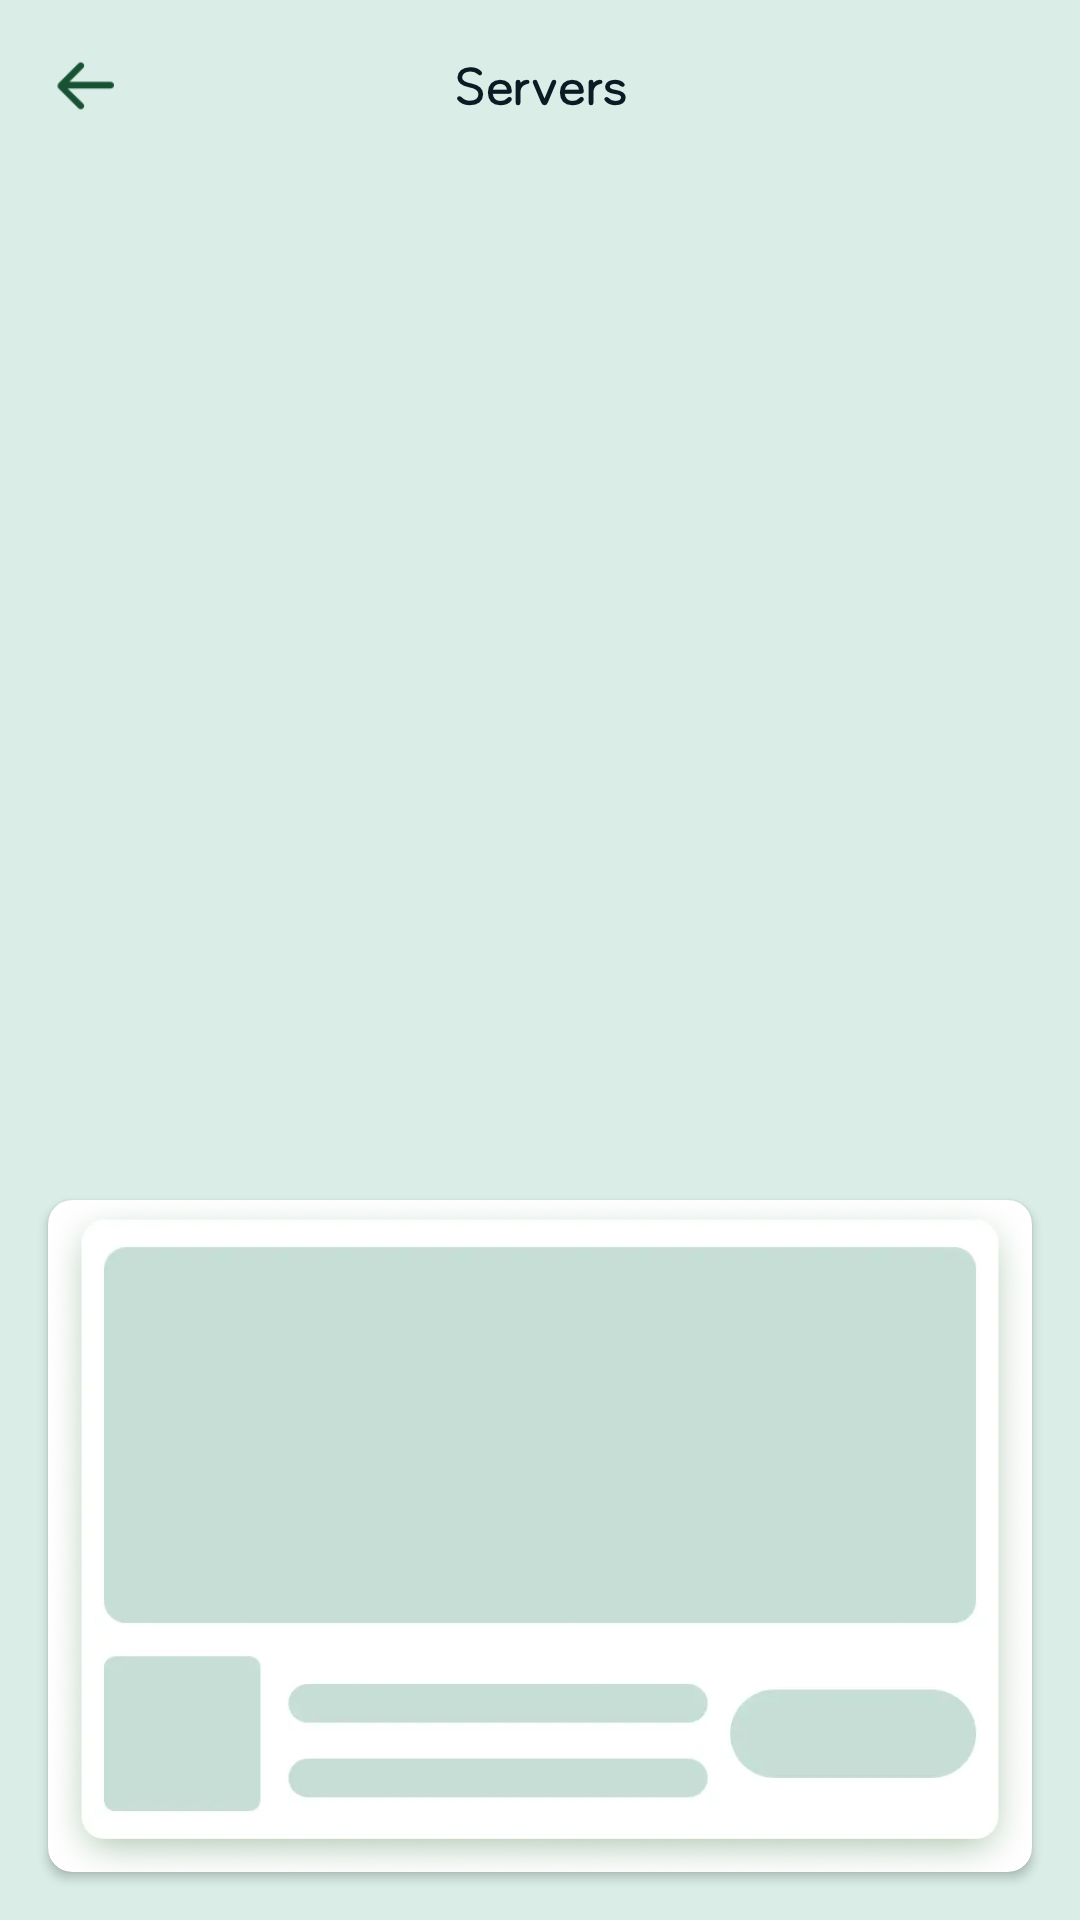

Icons on this 1080x1920 Android screen, each with its box as (left=x1, top=y1, right=x2, bottom=y2):
back: (left=57, top=62, right=114, bottom=110)
